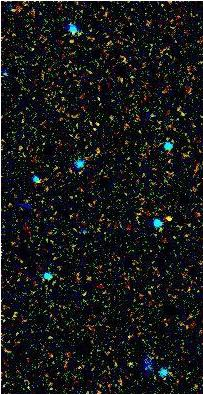star: (155, 204, 185, 234)
